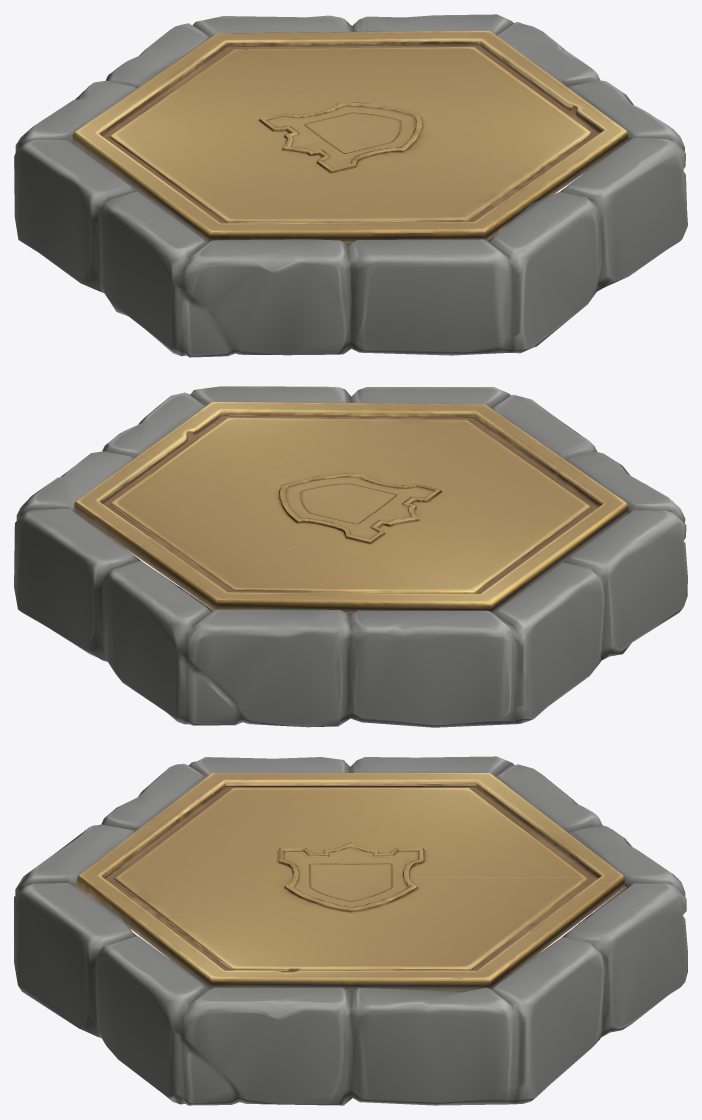
File: map_pad_tripo.glb
The picture shows the model from 3 angles, top to bottom: view 1: azimuth 30°, elevation 25°; view 2: azimuth 150°, elevation 25°; view 3: azimuth 270°, elevation 25°; orthographic projection.
Parts seen in each view (by area): view 1: tripo_node_bd23b6f6-a9fe-4fb2-aa6f-3f571b981789; view 2: tripo_node_bd23b6f6-a9fe-4fb2-aa6f-3f571b981789; view 3: tripo_node_bd23b6f6-a9fe-4fb2-aa6f-3f571b981789.
Boxes of the visible parts, bbox=[...] form: tripo_node_bd23b6f6-a9fe-4fb2-aa6f-3f571b981789: bbox=[14, 14, 687, 357]; tripo_node_bd23b6f6-a9fe-4fb2-aa6f-3f571b981789: bbox=[14, 386, 687, 727]; tripo_node_bd23b6f6-a9fe-4fb2-aa6f-3f571b981789: bbox=[14, 756, 687, 1105].
Bounding box in the file's own units: 0.8965 × 0.1738 × 0.998.
Materials: 1 (1 with a texture image).
